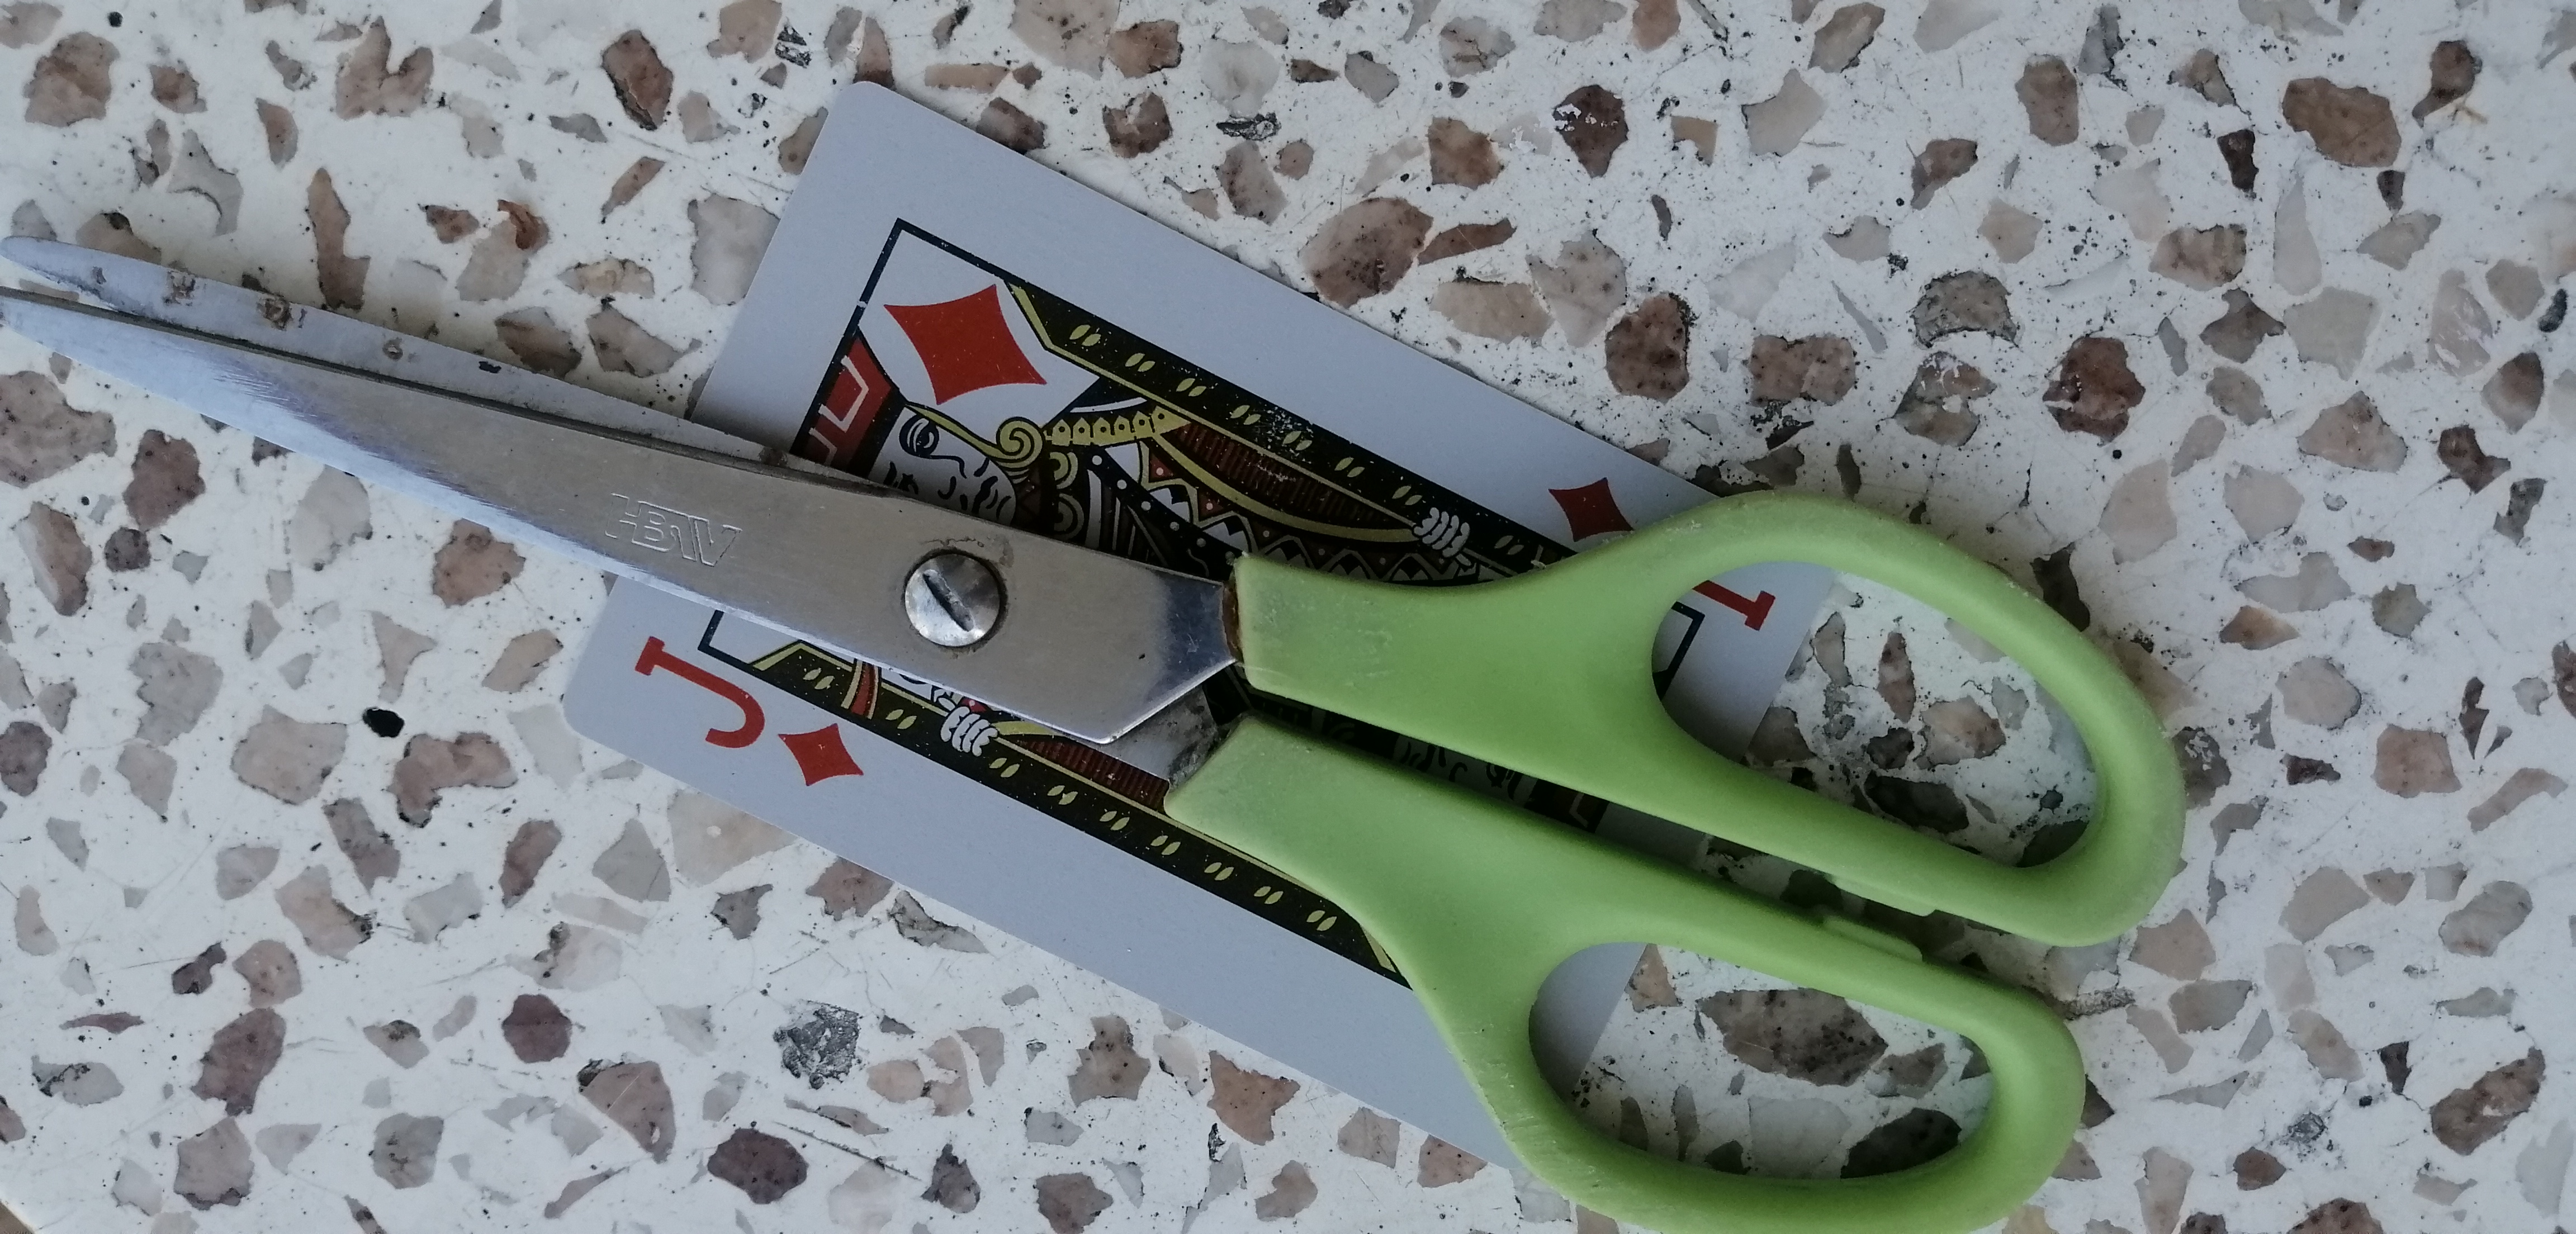jack: (486, 122, 1879, 935)
